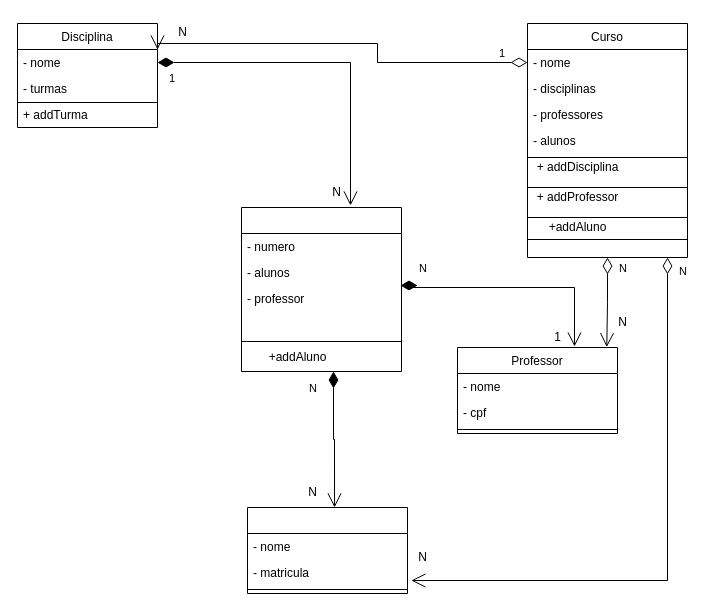
The diagram is 705 pixels wide and 615 high, and some of its shapes have lost their labels. Each missing label, with the box of its shape:
Aluno: (246, 506, 408, 594)
Turma: (240, 206, 402, 372)
